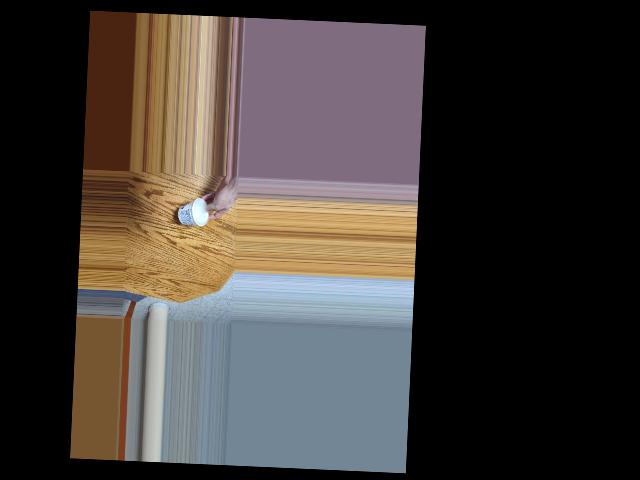cotage: (176, 198, 207, 229)
